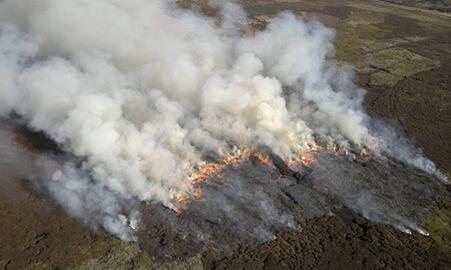fire: (169, 149, 278, 216), (283, 142, 371, 174)
yanwu: (0, 0, 437, 238)
